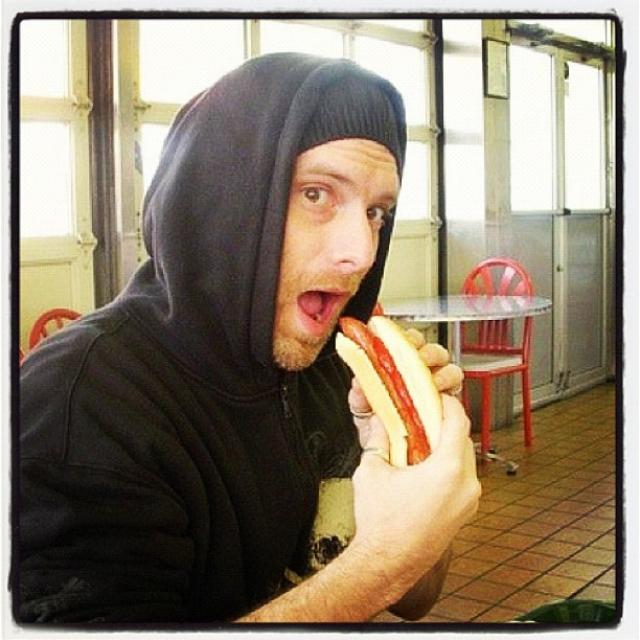chair: (462, 259, 537, 465), (29, 307, 85, 350)
dining table: (381, 290, 553, 370)
